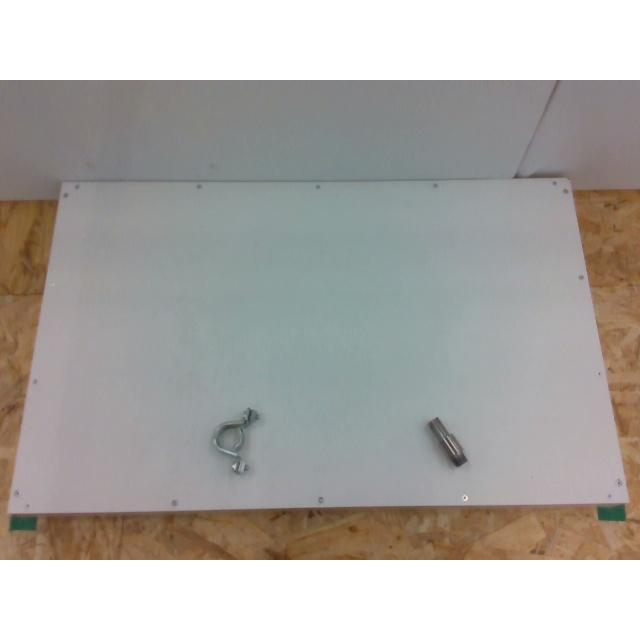Axis2: (426, 416, 466, 464)
Housing: (212, 407, 258, 471)
